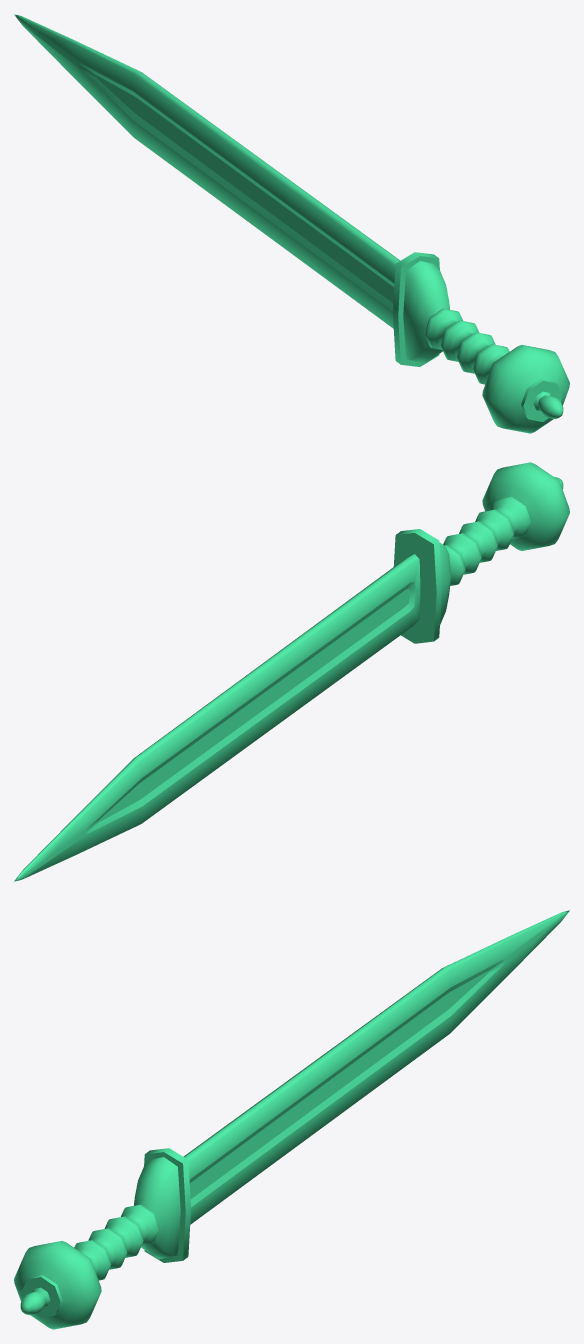
The model's file is Espada001.fbx.
3 renders of one model, top to bottom at view 1: azimuth 30°, elevation 25°; view 2: azimuth 150°, elevation 25°; view 3: azimuth 330°, elevation 25°, orthographic.
Visible parts, largest first — view 1: Espada001; view 2: Espada001; view 3: Espada001.
Part boxes in pixels (<box>): Espada001: <box>14,14,569,433</box>; Espada001: <box>14,462,569,881</box>; Espada001: <box>14,910,569,1329</box>.
Size of the model in its own units: 15.64 by 20.3 by 181.
